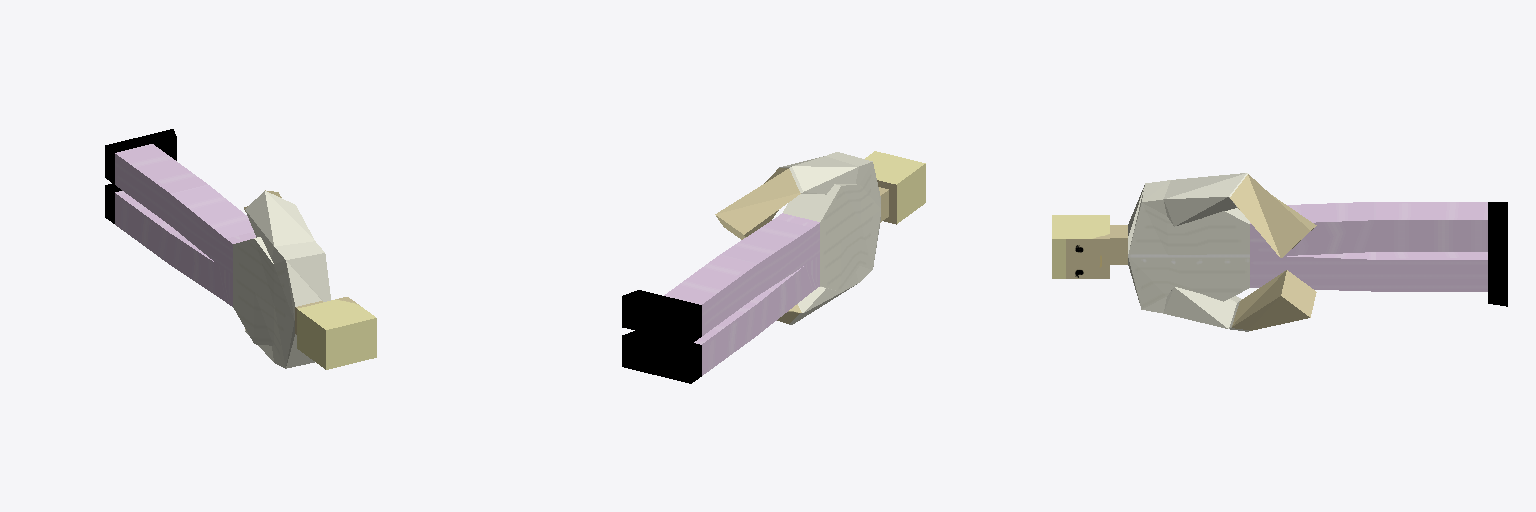
3 views of the same model, side by side, from view 1: azimuth 30°, elevation 25°; view 2: azimuth 150°, elevation 25°; view 3: azimuth 270°, elevation 25° (orthographic).
Visible parts, largest first — view 1: RLeg.001; view 2: RLeg.001; view 3: RLeg.001.
Part boxes in pixels (x1,y1,x2,y2): RLeg.001: (105, 129, 376, 369); RLeg.001: (622, 151, 925, 383); RLeg.001: (1052, 173, 1507, 331).
Bounding box in the file's own units: 0.3455 × 0.5989 × 1.56.
Materials: 1 (1 with a texture image).